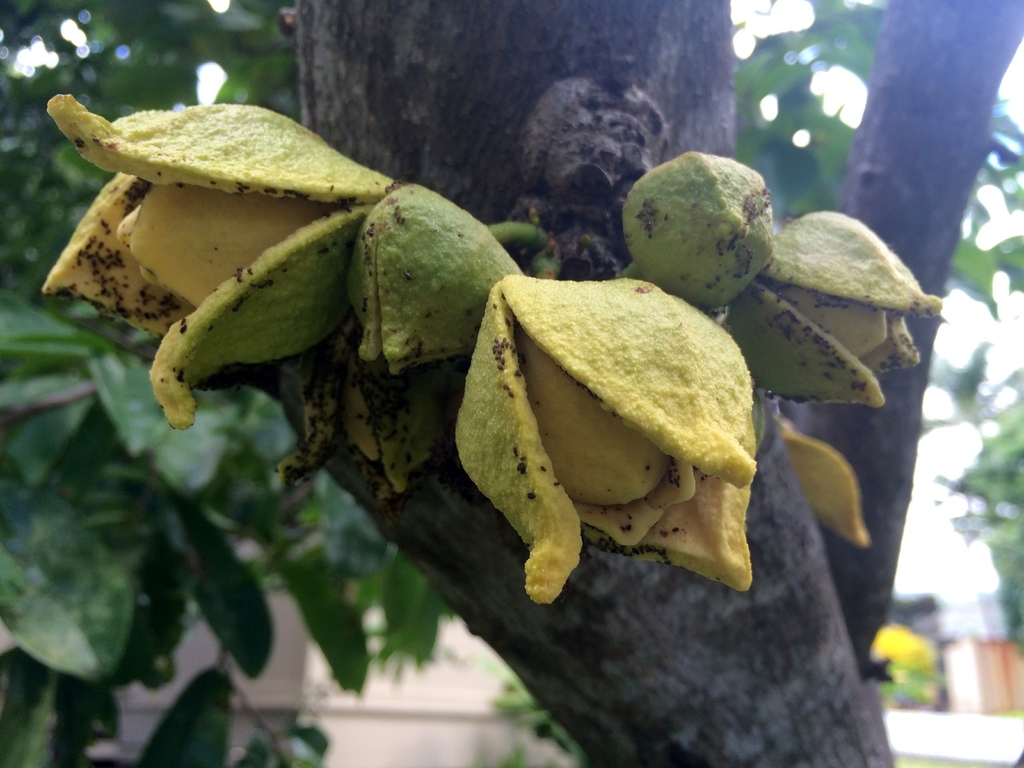Tree: (0, 0, 963, 734)
